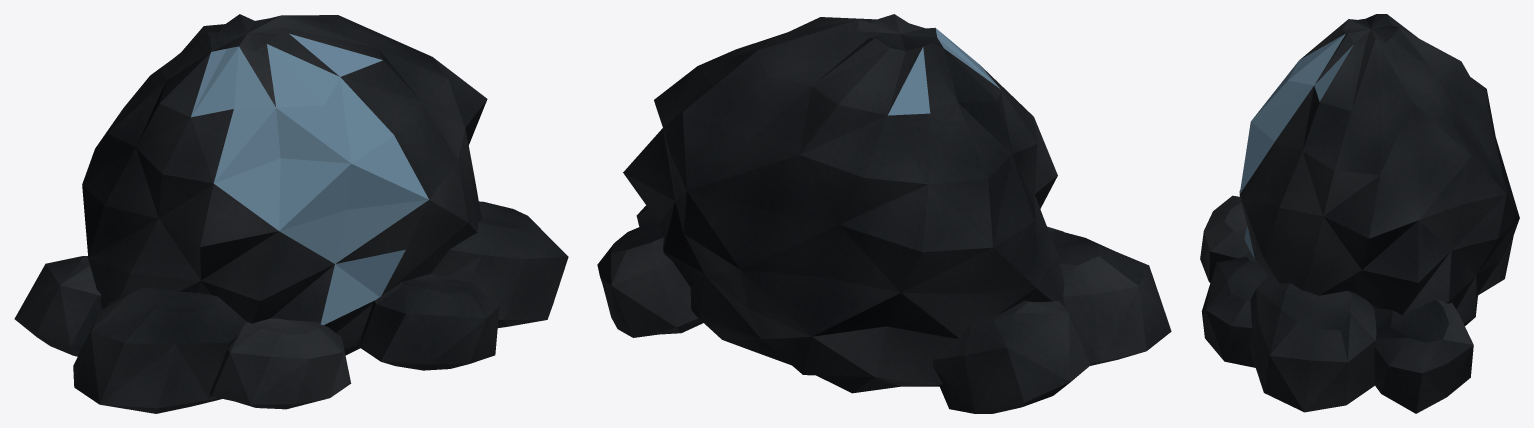
Rendered from Superdense_Deposit_B.glb.
3 renders of one model, left to right at view 1: azimuth 30°, elevation 25°; view 2: azimuth 150°, elevation 25°; view 3: azimuth 270°, elevation 25°, orthographic. The views are drawn at different scales.
Visible parts, largest first — view 1: Superdense_Deposit_B_LOD0; view 2: Superdense_Deposit_B_LOD0; view 3: Superdense_Deposit_B_LOD0.
Part boxes in pixels (x1,y1,x2,y2): Superdense_Deposit_B_LOD0: (14, 14, 568, 413); Superdense_Deposit_B_LOD0: (597, 14, 1171, 413); Superdense_Deposit_B_LOD0: (1200, 14, 1519, 413).
Size of what is drawn, in the model's own units: 3.89 by 2.53 by 2.59.
Materials: 2 (1 with a texture image).
